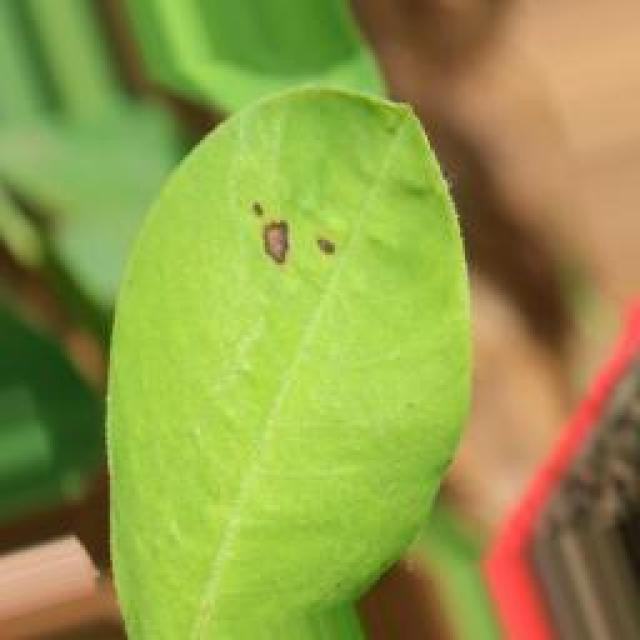Sigatoka: (206, 179, 354, 314)
